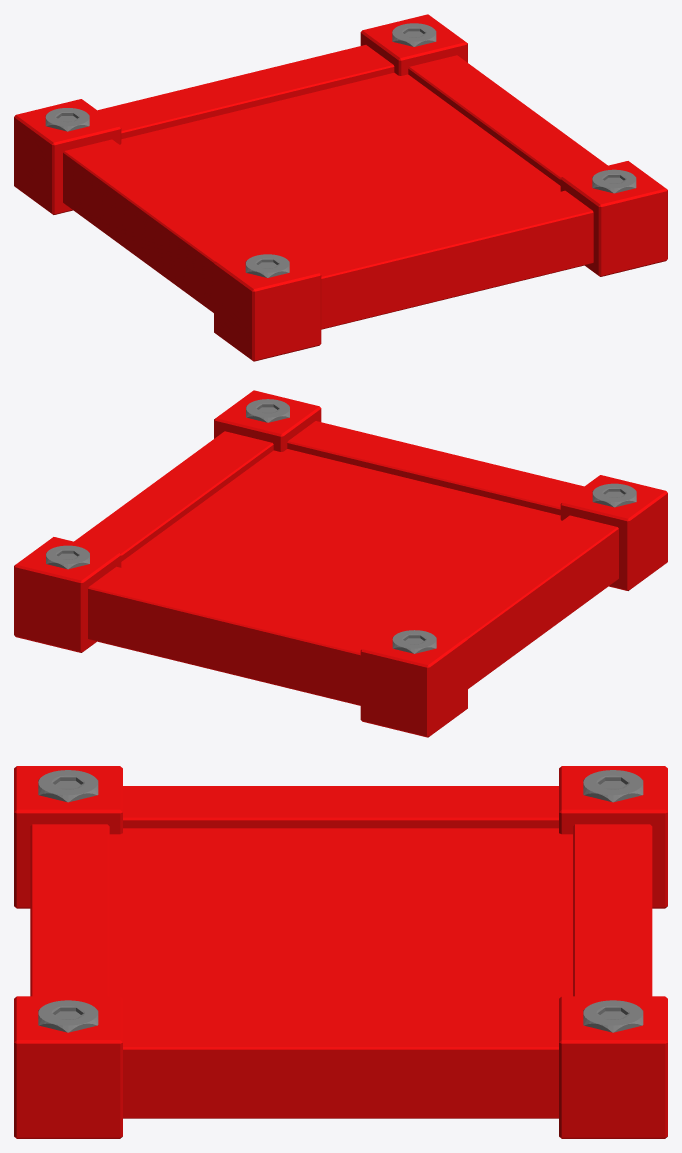
Rendered from SquareFramedPlatformRed.fbx.
3 views of the same model, one above another, from view 1: azimuth 30°, elevation 25°; view 2: azimuth 150°, elevation 25°; view 3: azimuth 270°, elevation 25° (orthographic). The views are drawn at different scales.
Visible parts, largest first — view 1: Cube, Cube.001; view 2: Cube, Cube.001; view 3: Cube, Cube.001.
Part boxes in pixels (<box>): Cube: <box>14,14,667,361</box>; Cube.001: <box>45,23,636,277</box>; Cube: <box>14,390,667,737</box>; Cube.001: <box>46,399,636,653</box>; Cube: <box>14,766,667,1138</box>; Cube.001: <box>38,770,643,1032</box>.
Bounding box in the file's own units: 6 × 1.05 × 6.
